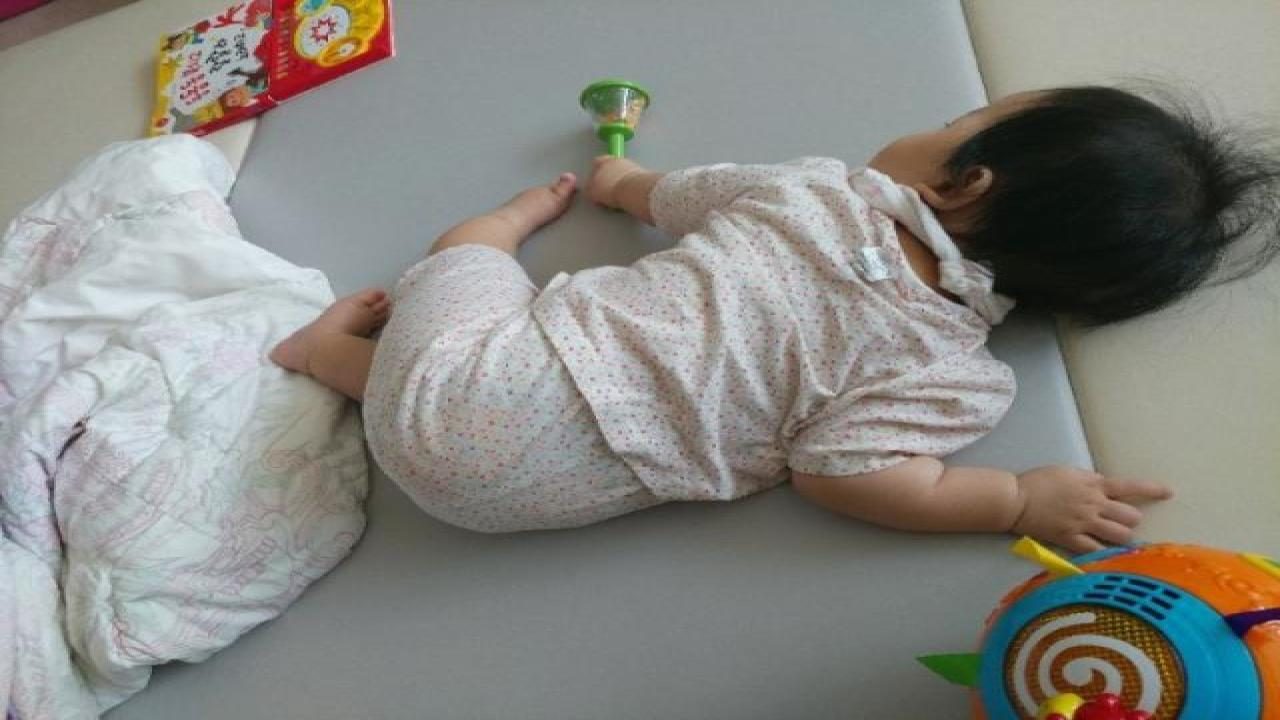hand: (1010, 463, 1176, 553), (588, 156, 646, 207)
